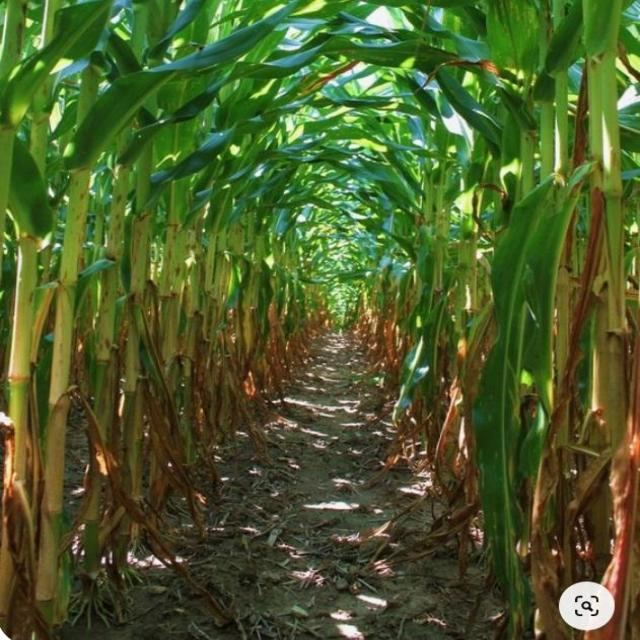row: (39, 330, 530, 639)
